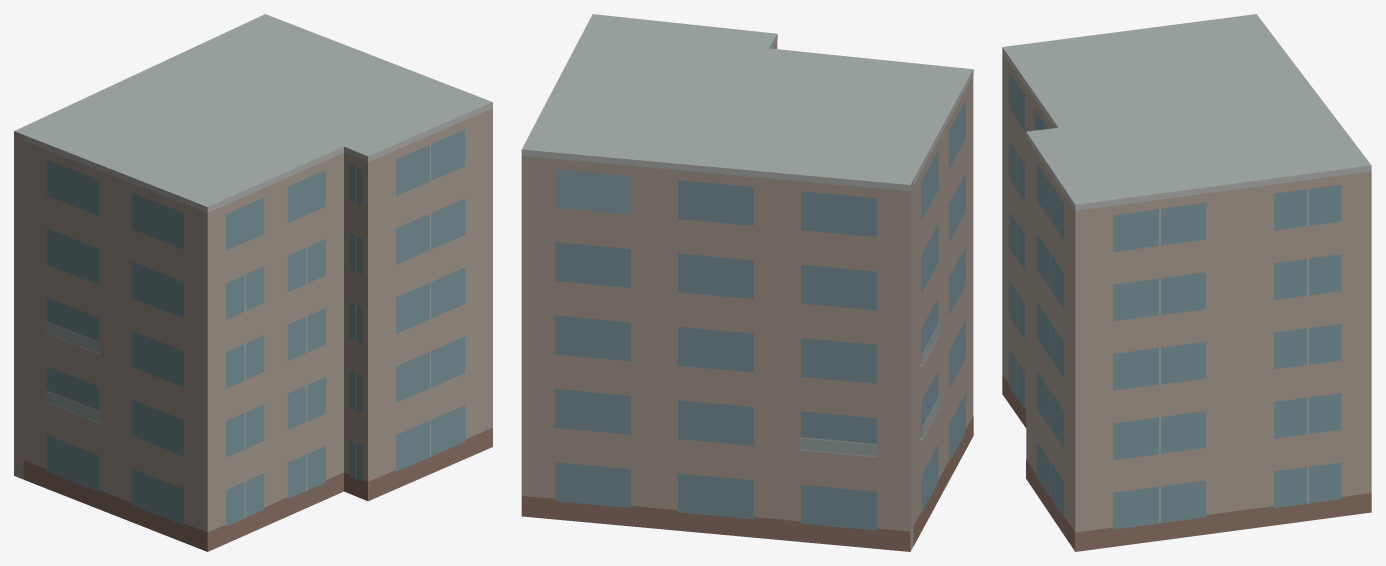
Rendered from survey-upis-32784721.glb.
3 views of the same model, side by side, from view 1: azimuth 30°, elevation 25°; view 2: azimuth 150°, elevation 25°; view 3: azimuth 270°, elevation 25° (orthographic). The views are drawn at different scales.
Visible parts, largest first — view 1: survey-upis-32784721.tmp; view 2: survey-upis-32784721.tmp; view 3: survey-upis-32784721.tmp.
Part boxes in pixels (bbox=[...]): survey-upis-32784721.tmp: bbox=[14, 14, 492, 551]; survey-upis-32784721.tmp: bbox=[521, 14, 973, 551]; survey-upis-32784721.tmp: bbox=[1002, 14, 1371, 551].
Bounding box in the file's own units: 16.52 × 14 × 13.51.
